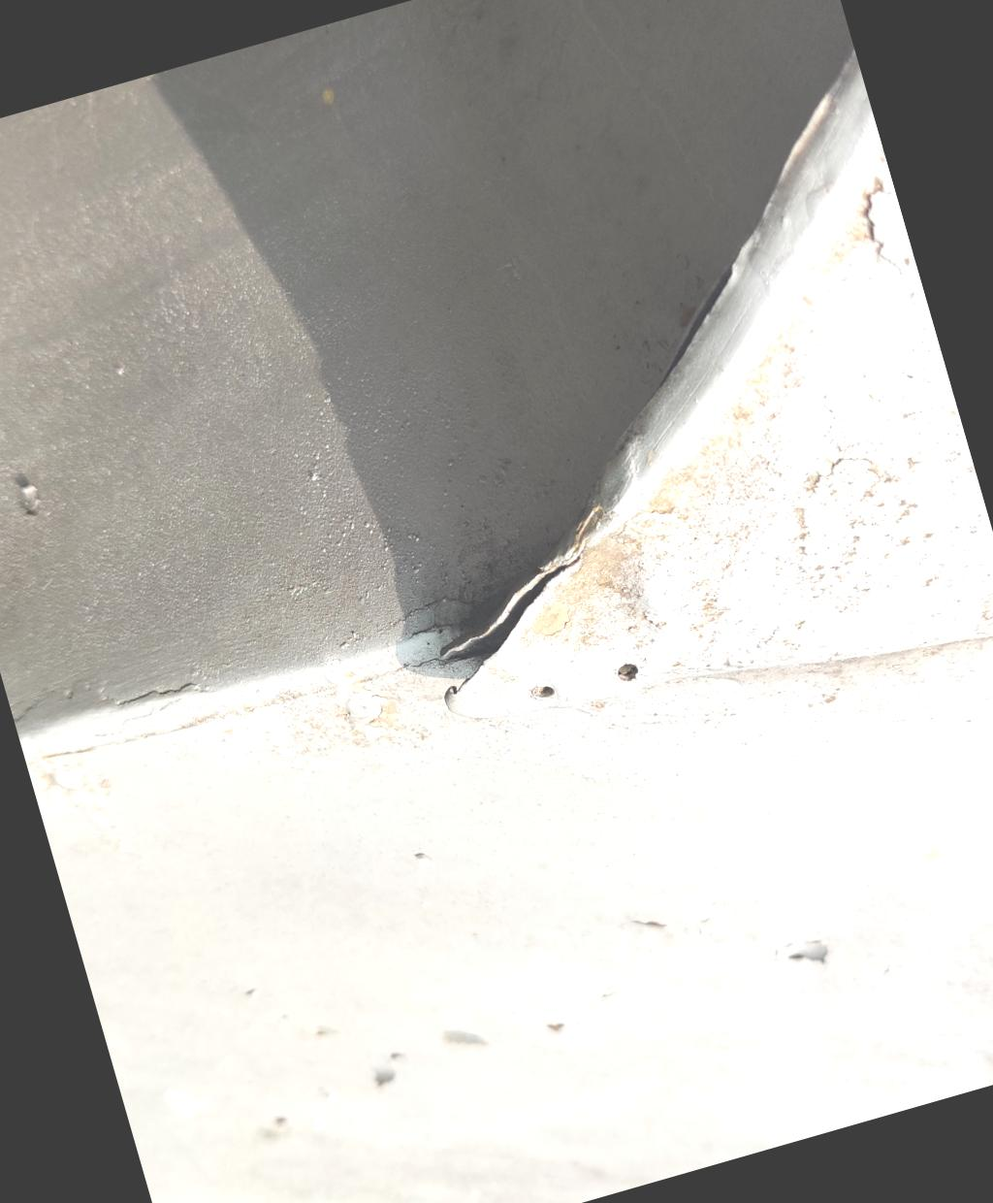crack: (382, 514, 620, 723)
